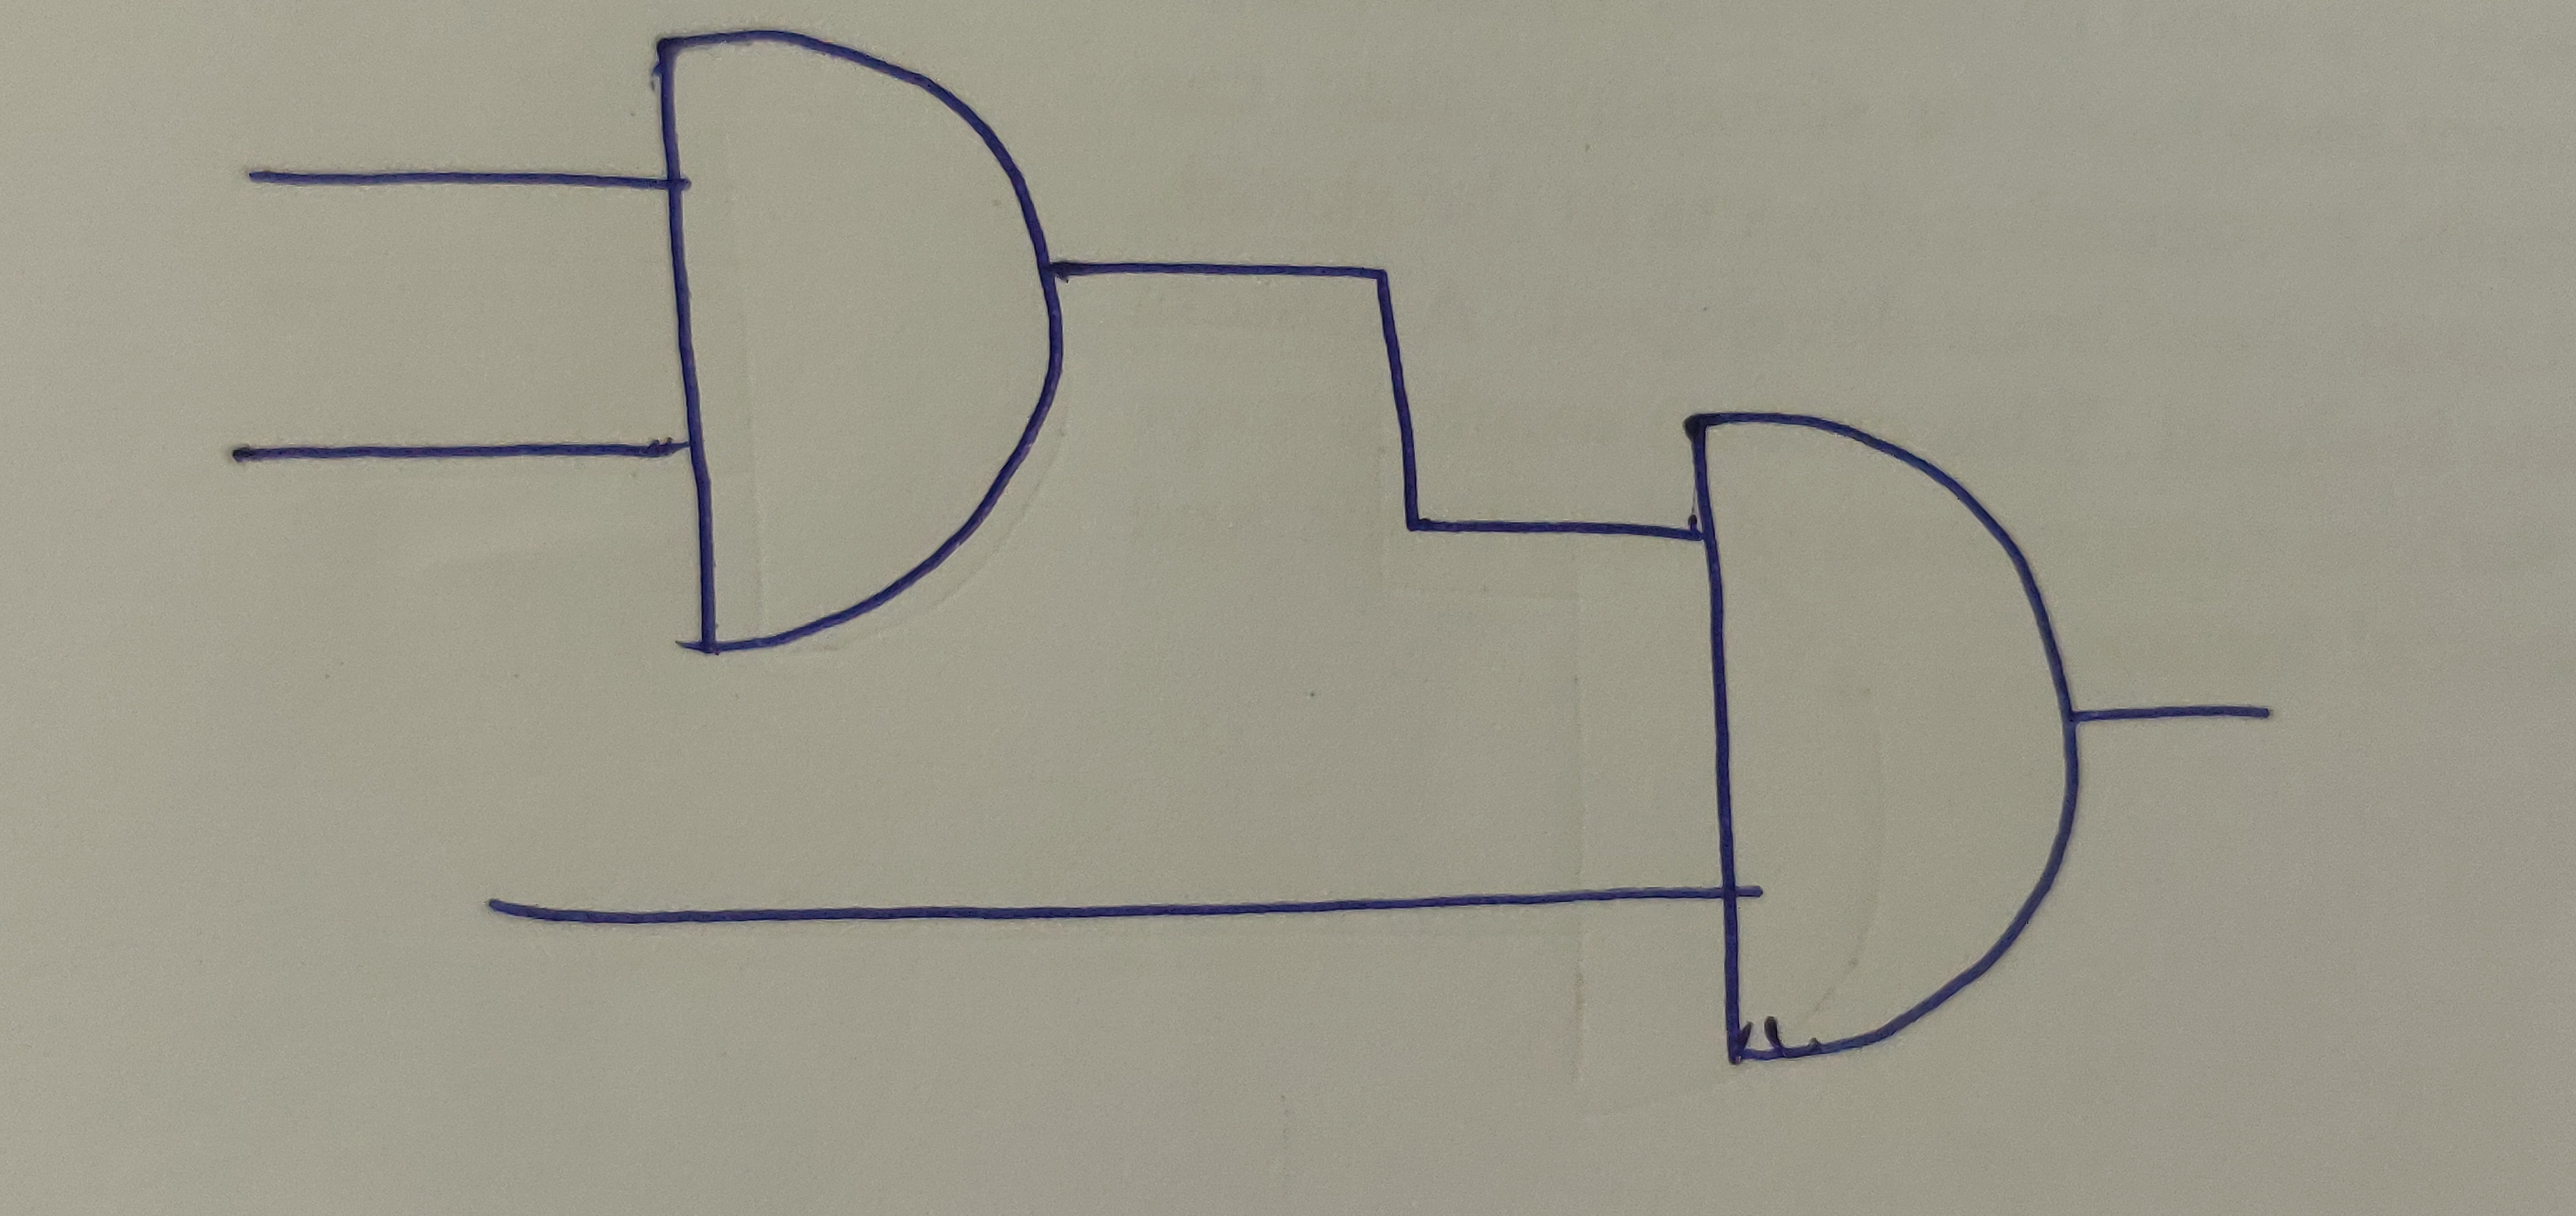and: (641, 26, 1071, 659), (1684, 404, 2088, 1066)
